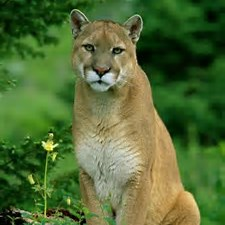Mountain Lion: (68, 9, 149, 96)
